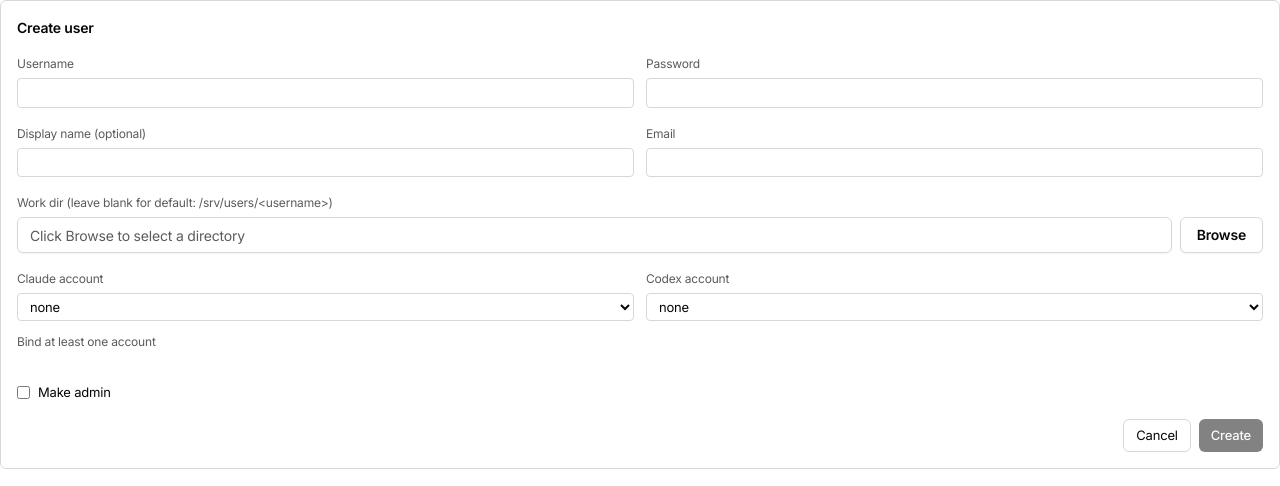
Test case: AdminUsersCreateForm › keeps Create disabled until credentials and at least one account are set
expect the button "Create" is disabled: met, box top-left (1199, 418), bottom-right (1263, 452)
Type "alice" into the field labelled "Username" at point(326, 93), box top-left (17, 78), bottom-right (634, 108)
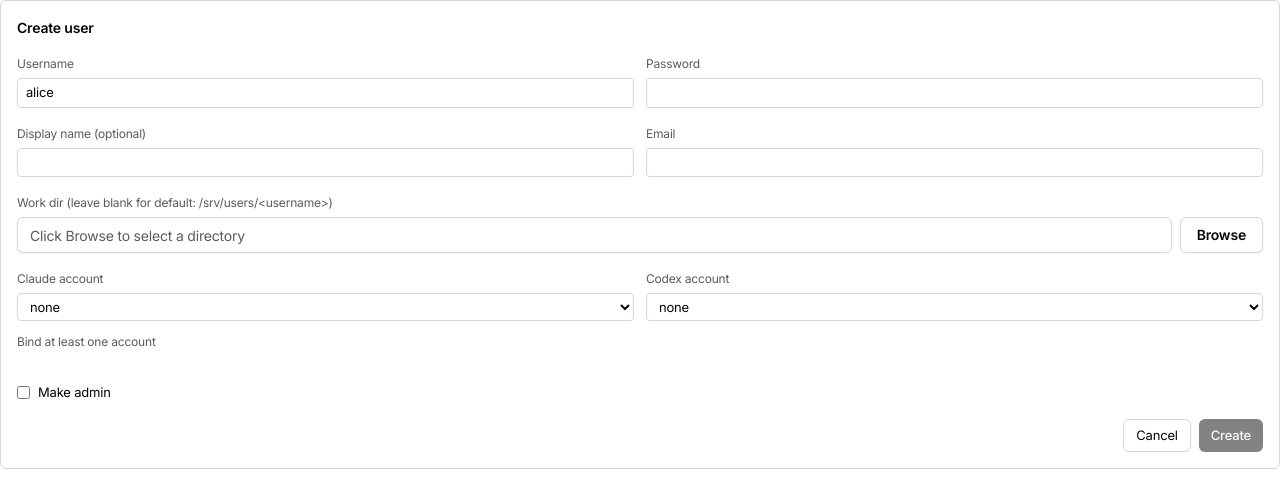
Type "hunter2" into the password field labelled "Password" at point(954, 93), box top-left (646, 78), bottom-right (1263, 108)
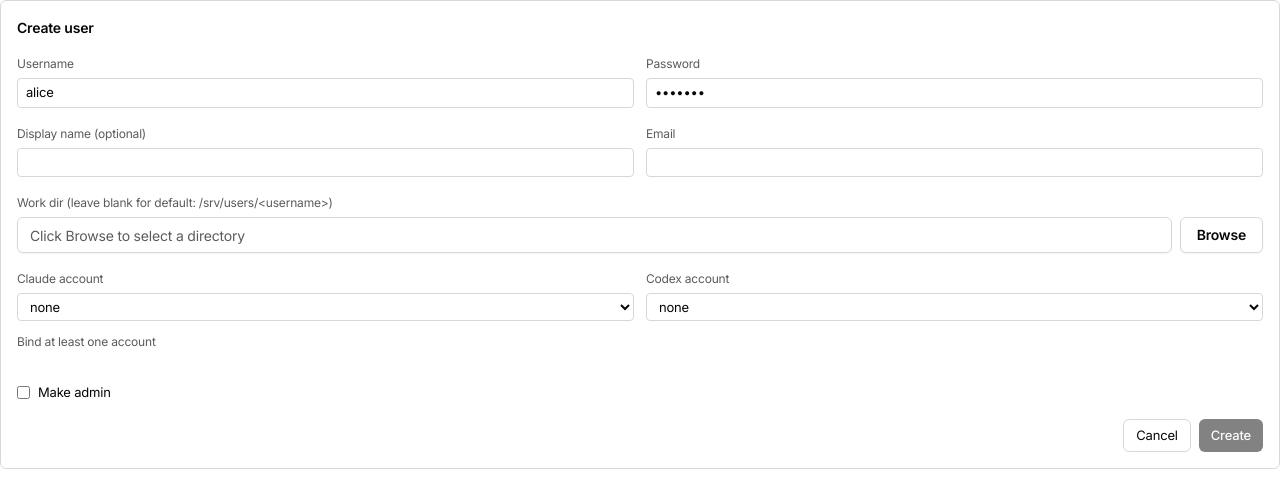
expect the button "Create" is disabled: met, box top-left (1199, 418), bottom-right (1263, 452)
expect the text "Bind at least one account" is shown: met, box top-left (17, 334), bottom-right (156, 349)
Select "default-codex" in the dropdown with test id "create-binding-codex" at point(954, 307), box top-left (646, 293), bottom-right (1263, 321)
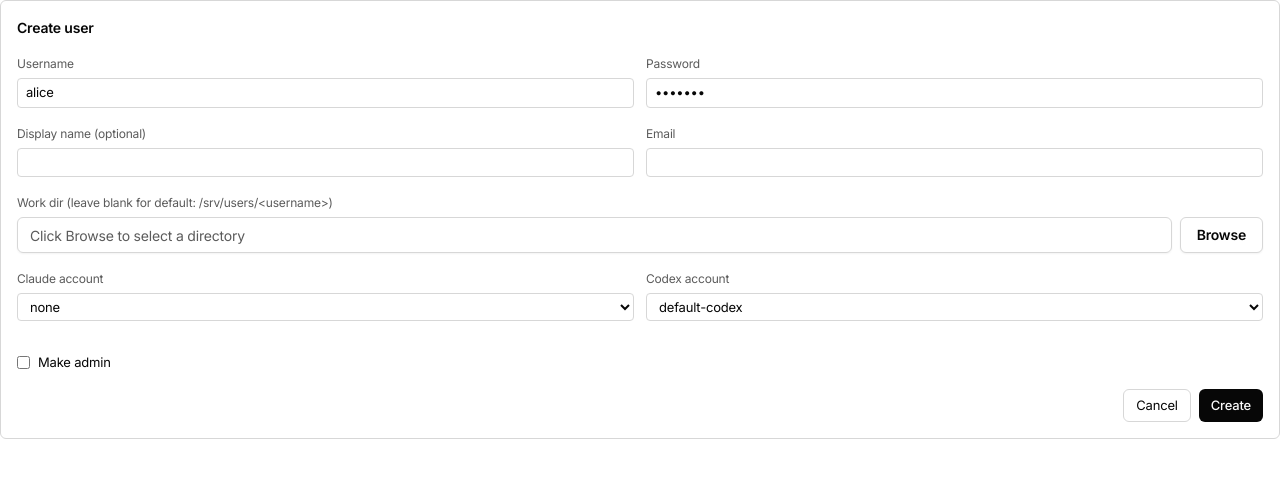
expect the button "Create" is enabled: met, box top-left (1199, 388), bottom-right (1263, 422)
